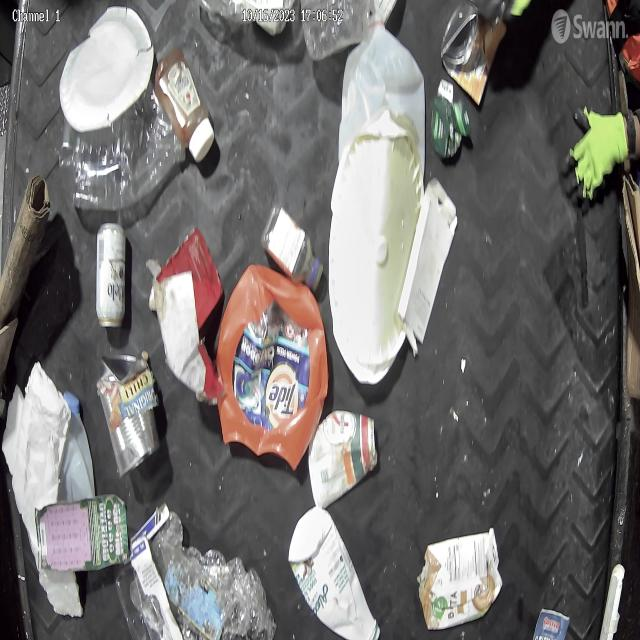can: (92, 348, 156, 466), (310, 402, 376, 488), (442, 0, 496, 101), (92, 221, 130, 327)
milk_jug: (337, 12, 425, 180)
non_white_jug: (217, 258, 321, 460)
plastic_bottle: (56, 97, 182, 207)
